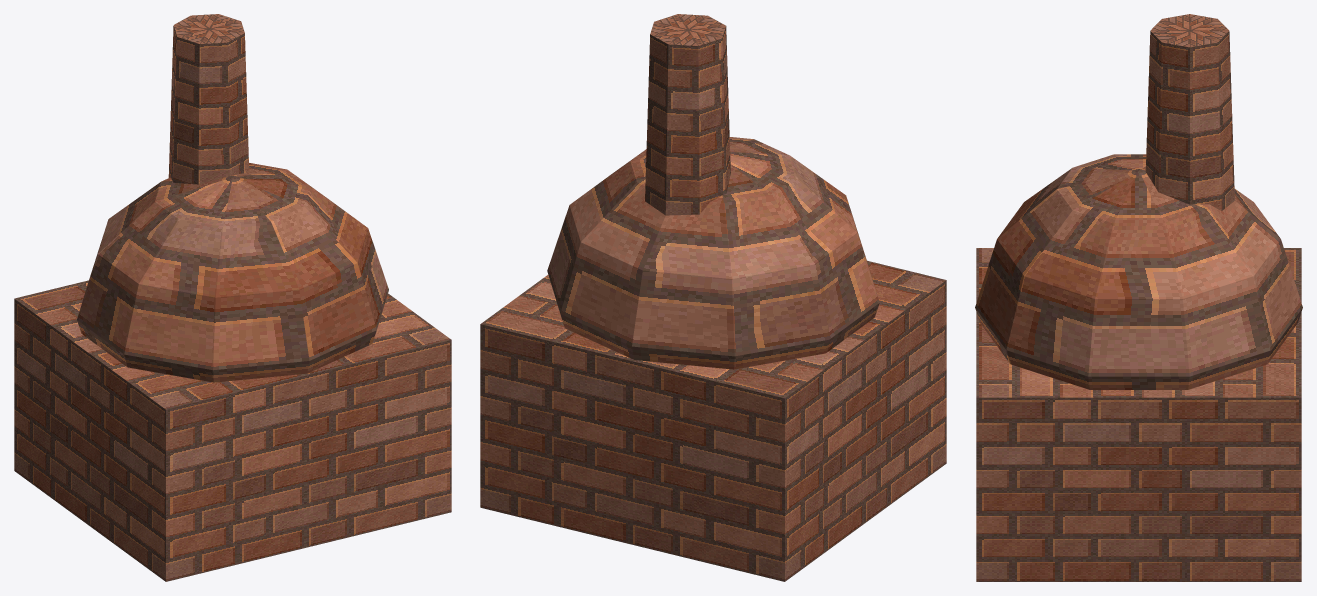
File: forno.glb
The picture shows the model from 3 angles, left to right: view 1: azimuth 30°, elevation 25°; view 2: azimuth 150°, elevation 25°; view 3: azimuth 270°, elevation 25°; orthographic projection. The views are drawn at different scales.
Parts seen in each view (by area): view 1: forno; view 2: forno; view 3: forno.
Part boxes in pixels (x1,y1,x2,y2): forno: [14, 14, 451, 581]; forno: [480, 14, 946, 581]; forno: [975, 14, 1302, 581].
Bounding box in the file's own units: 1.25 × 1.86 × 1.16.
Materials: 1 (1 with a texture image).
